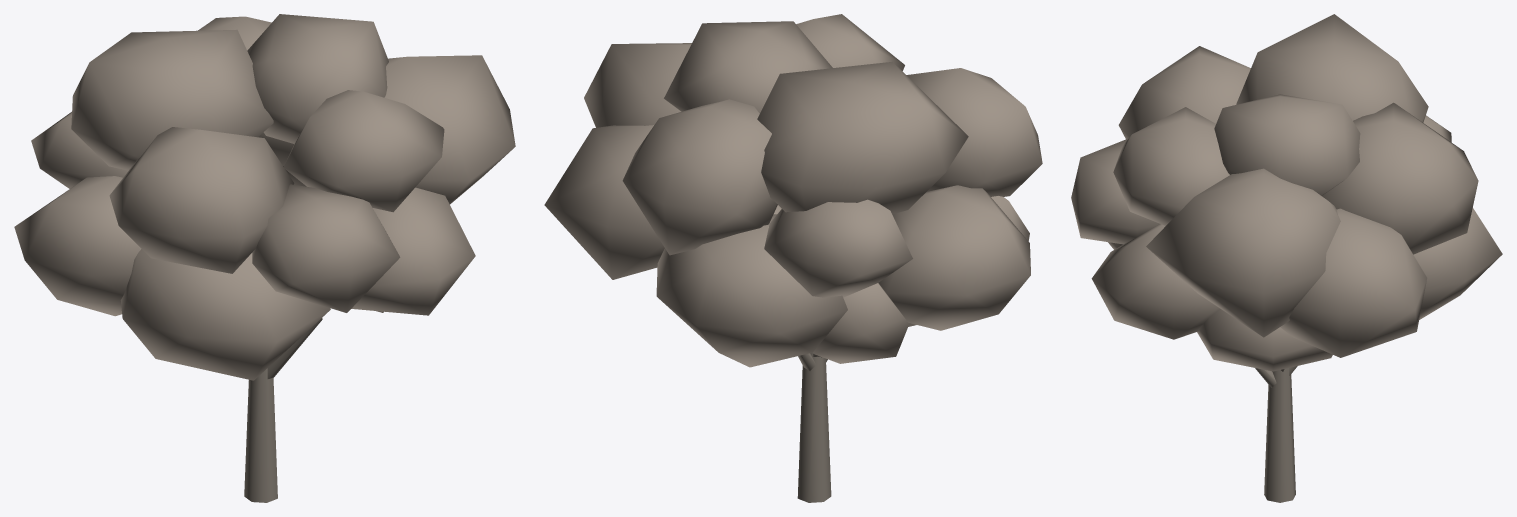
Rendered from tree_oak.glb.
3 renders of one model, left to right at view 1: azimuth 30°, elevation 25°; view 2: azimuth 150°, elevation 25°; view 3: azimuth 270°, elevation 25°, orthographic. The views are drawn at different scales.
Visible parts, largest first — view 1: tree_oak; view 2: tree_oak; view 3: tree_oak.
Part boxes in pixels (x1,y1,x2,y2): tree_oak: (14,14,515,502); tree_oak: (544,14,1042,502); tree_oak: (1071,14,1502,502).
Size of the model in its own units: 11.7 by 10.85 by 10.04.
